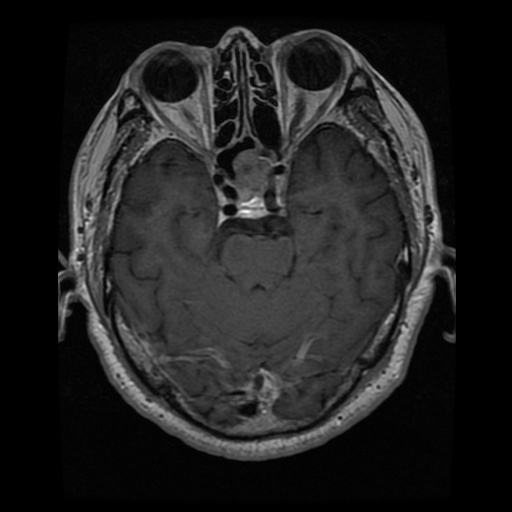pituitary: (235, 152, 273, 198)
